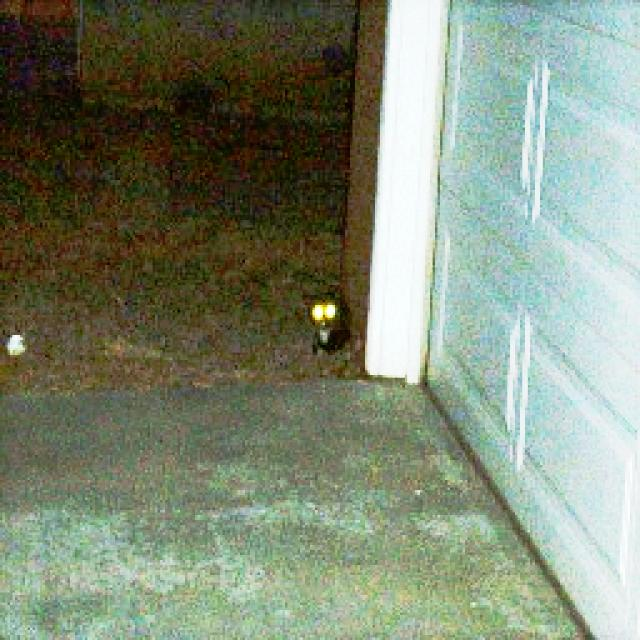cat: (276, 244, 357, 370)
